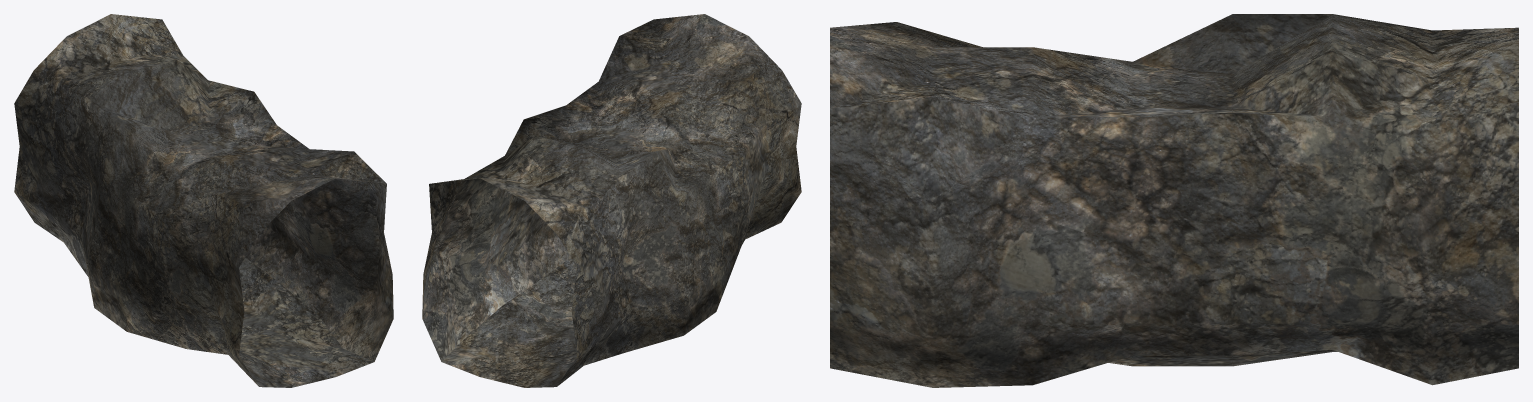
Rendered from cave_piece_06.glb.
3 views of the same model, side by side, from view 1: azimuth 30°, elevation 25°; view 2: azimuth 150°, elevation 25°; view 3: azimuth 270°, elevation 25° (orthographic). The views are drawn at different scales.
Parts seen in each view (by area): view 1: mine_06_mine_0; view 2: mine_06_mine_0; view 3: mine_06_mine_0.
Boxes of the visible parts, x1=… form: mine_06_mine_0: x1=14, y1=14, x2=393, y2=387; mine_06_mine_0: x1=422, y1=14, x2=801, y2=387; mine_06_mine_0: x1=830, y1=14, x2=1518, y2=387.
Bounding box in the file's own units: 4.42 × 4.47 × 8.9.
1 material, 1 textured.
